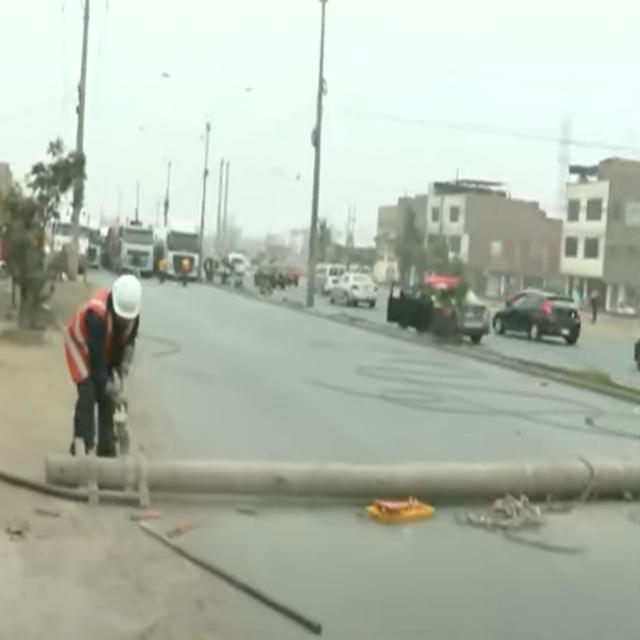Inclined Pole: (43, 449, 639, 510)
